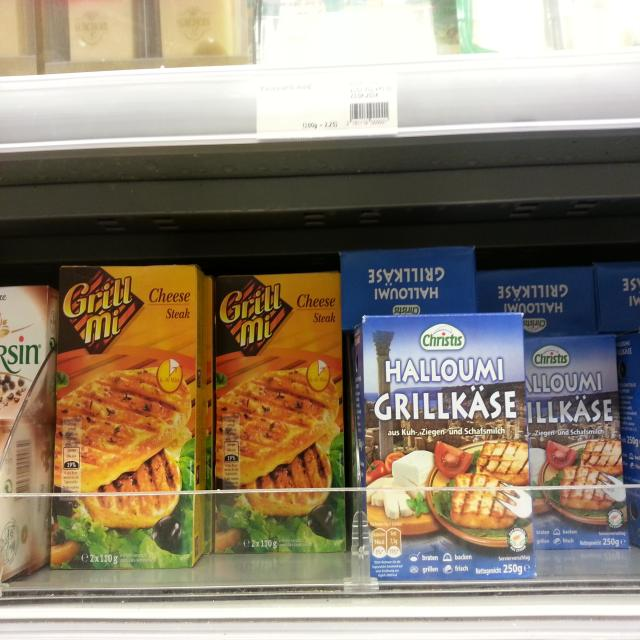Cheese: (354, 314, 535, 578), (50, 267, 203, 564), (217, 274, 348, 552), (522, 338, 629, 550)
